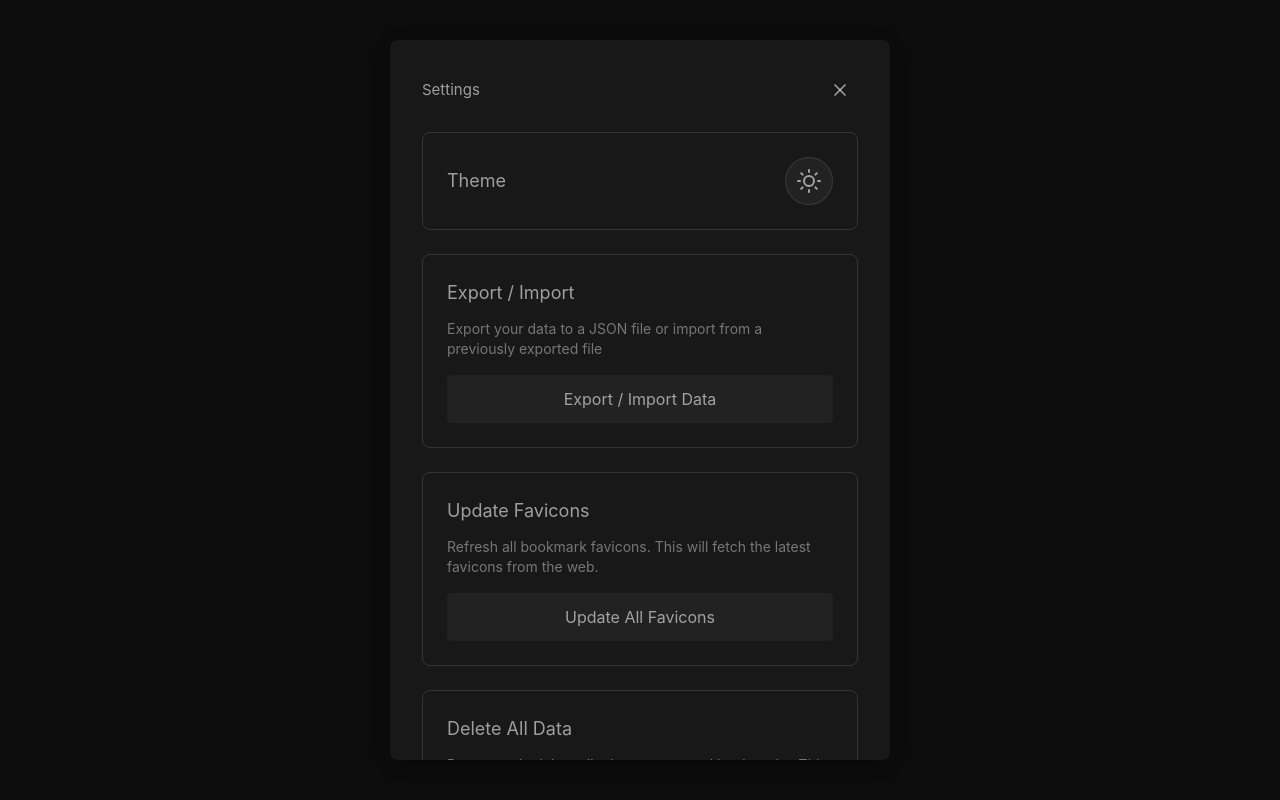
Test: SettingsModal › shows export/import modal when export/import button is clicked
Step 1. Click the button "Export / Import Data" → point(640, 399), box [447,375,833,423]
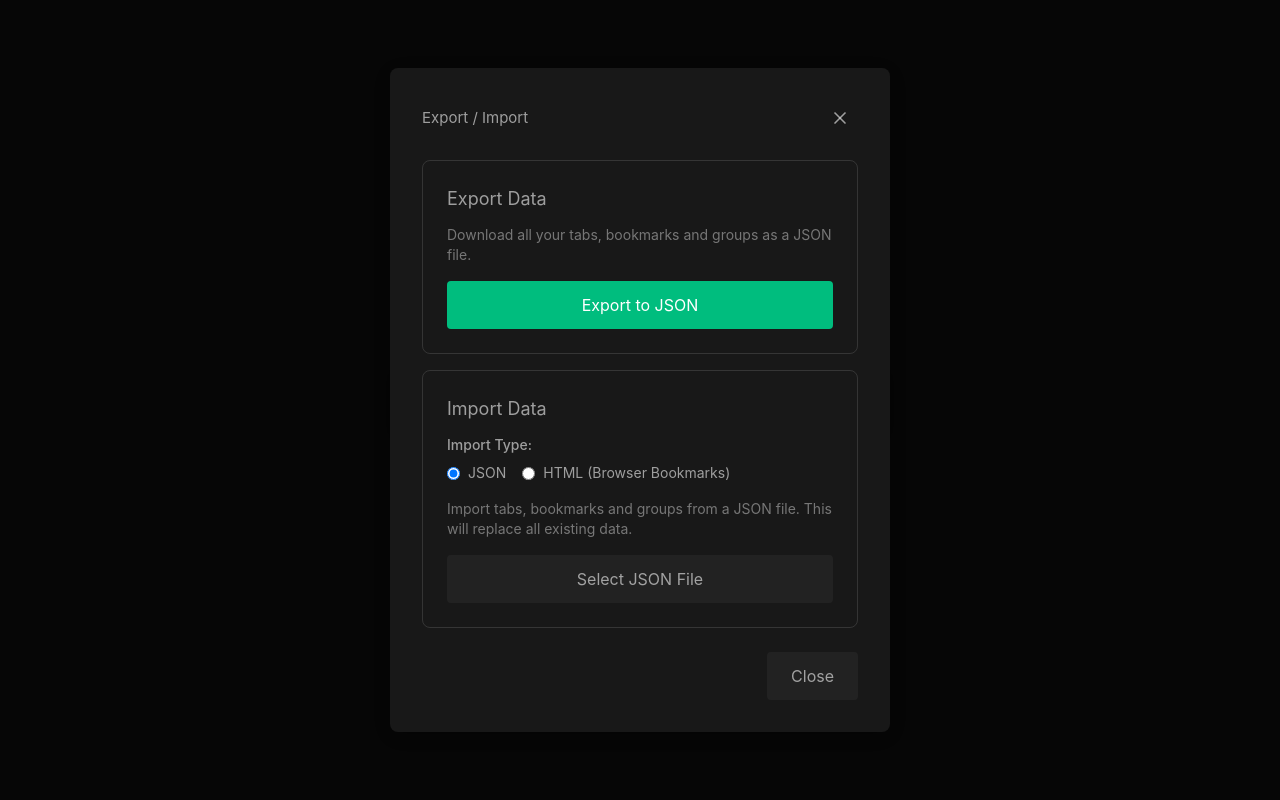
Now the element that starts with "Export / Import" is shown
